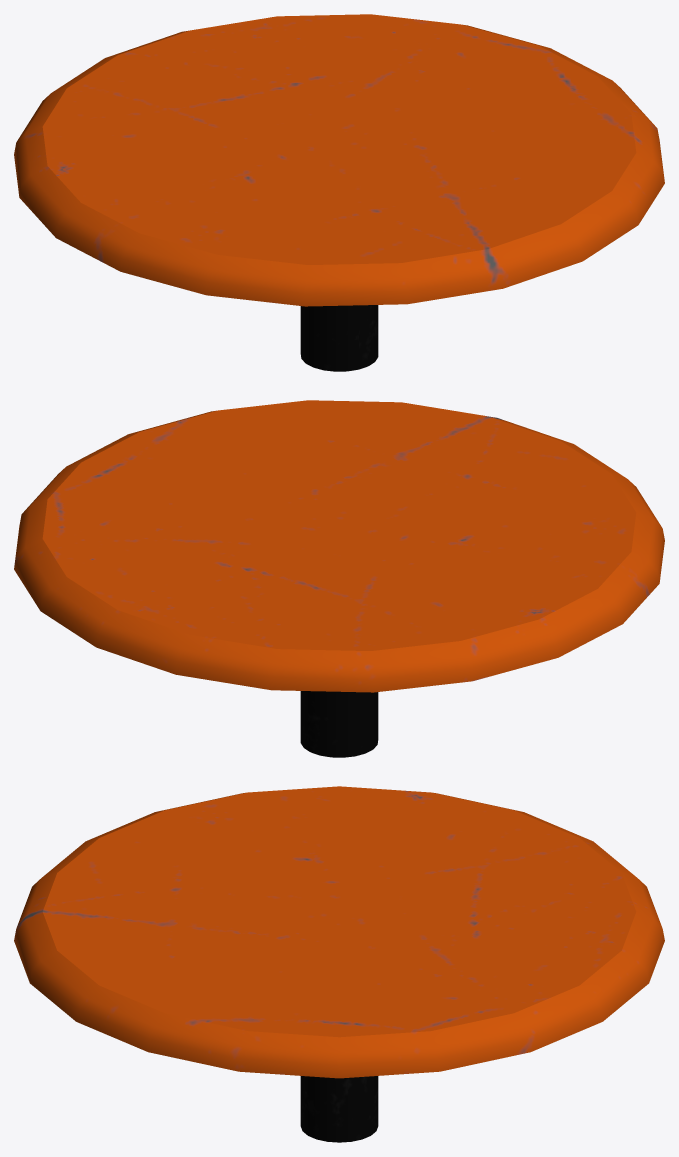
File: table w stain.fbx
3 renders of one model, top to bottom at view 1: azimuth 30°, elevation 25°; view 2: azimuth 150°, elevation 25°; view 3: azimuth 270°, elevation 25°, orthographic.
Visible parts, largest first — view 1: table_w_stain; view 2: table_w_stain; view 3: table_w_stain.
Part boxes in pixels (<box>): table_w_stain: <box>14,14,664,371</box>; table_w_stain: <box>14,400,664,757</box>; table_w_stain: <box>14,786,664,1142</box>.
Bounding box in the file's own units: 2.42 × 0.8797 × 2.42.
Materials: 1 (1 with a texture image).
